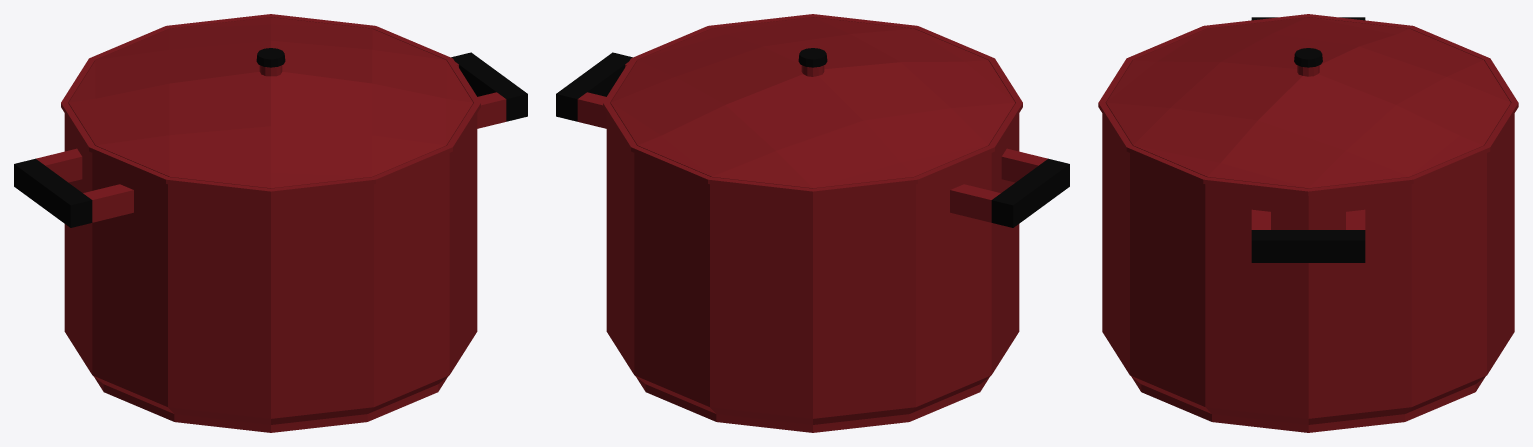
Rendered from Periuk.fbx.
3 views of the same model, side by side, from view 1: azimuth 30°, elevation 25°; view 2: azimuth 150°, elevation 25°; view 3: azimuth 270°, elevation 25° (orthographic).
Visible parts, largest first — view 1: cooking pot 2, cooking pot 2.001; view 2: cooking pot 2, cooking pot 2.001; view 3: cooking pot 2, cooking pot 2.001.
Boxes of the visible parts, x1,y1,x2,y2 form: cooking pot 2: (14,14,527,432); cooking pot 2.001: (68,17,473,188); cooking pot 2: (556,14,1069,432); cooking pot 2.001: (610,17,1015,188); cooking pot 2: (1098,14,1518,432); cooking pot 2.001: (1106,17,1510,188).
Bounding box in the file's own units: 82.36 × 51.24 × 65.55.
